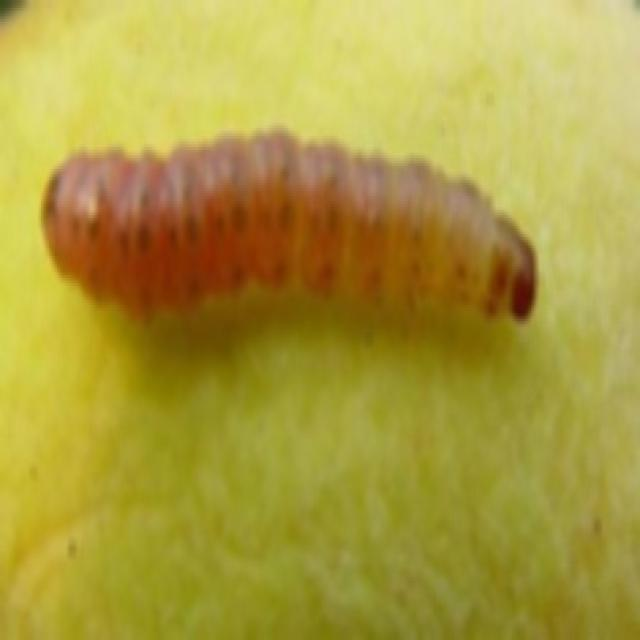peach borer: (42, 120, 538, 340)
